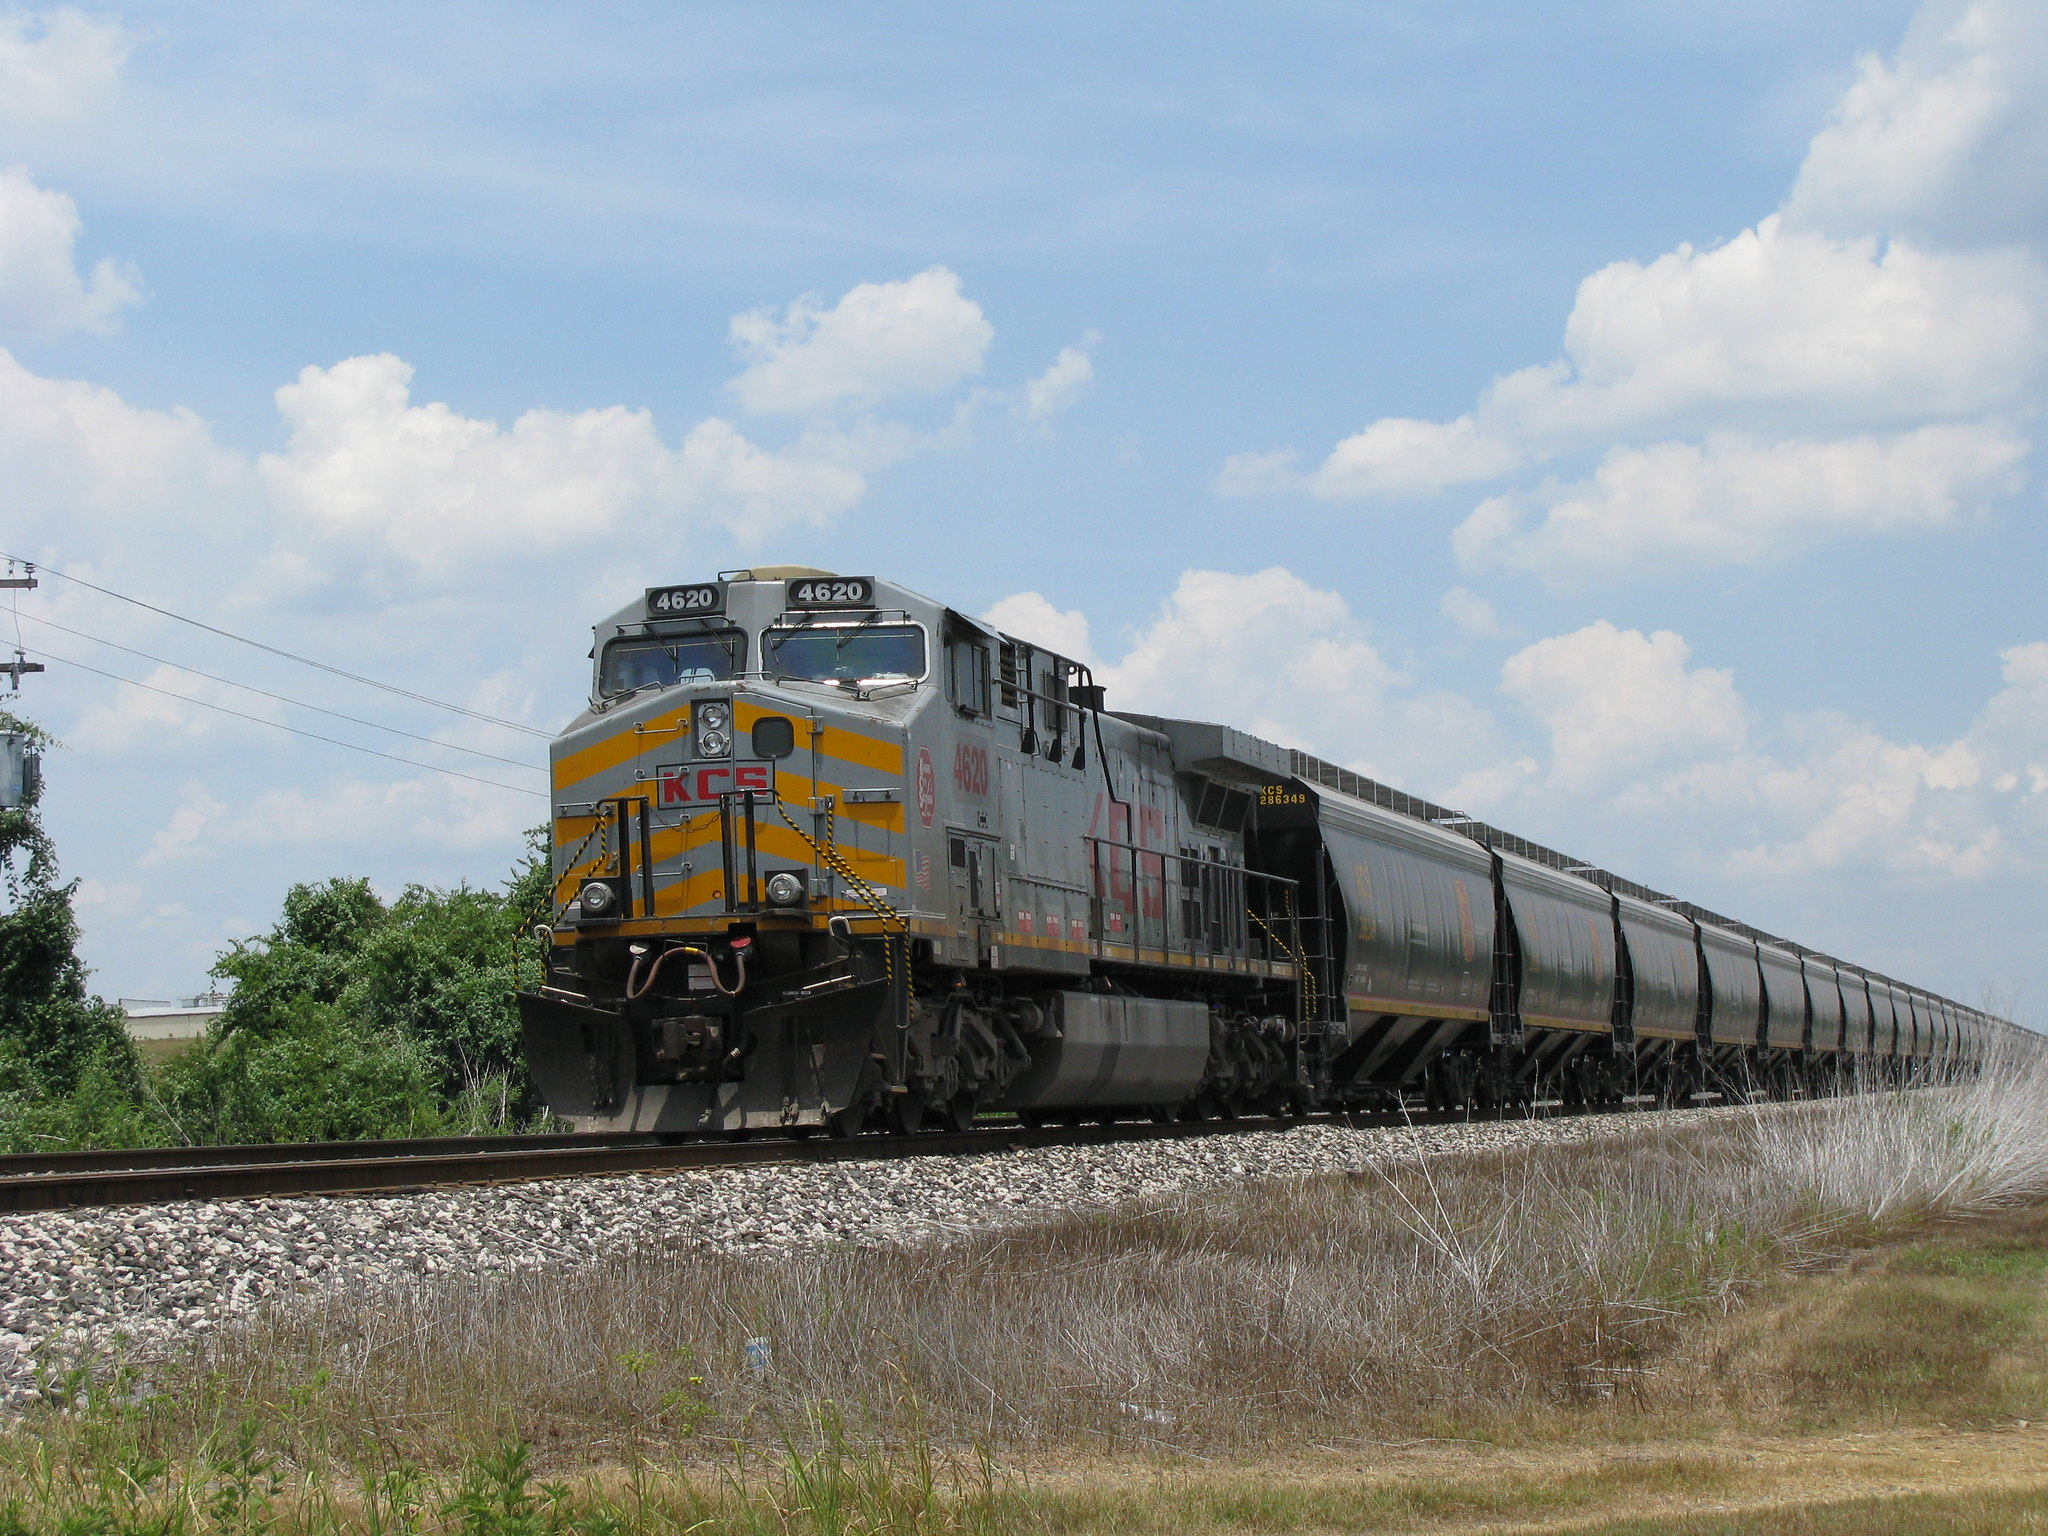train: (531, 537, 2030, 1154)
